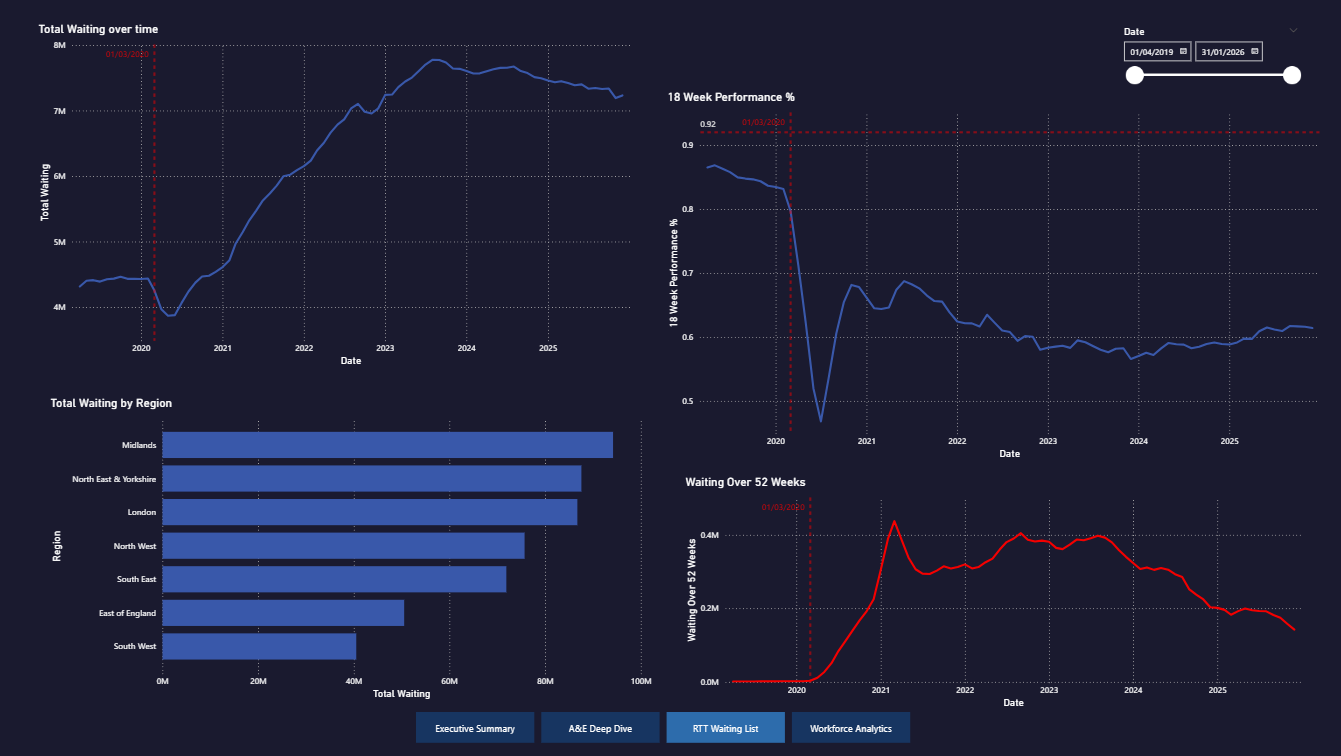

What the dashboard file says about the page in this screenshot:
{"tool":"powerbi","page":{"name":"RTT Waiting List","canvas":[1920,1080],"ordinal":2},"visuals":[{"type":"lineChart","title":"Total Waiting over time","fields":{"Y":["_Measures.Total Waiting"],"Category":["rtt_clean.period"]},"box":[50,31.4,857.1,497.1],"z":0},{"type":"lineChart","title":"18 Week Performance %","fields":{"Y":["_Measures.18 Week Performance %"],"Category":["rtt_clean.period"]},"box":[948.6,128.6,944.3,532.9],"z":1000},{"type":"clusteredBarChart","title":"Total Waiting by Region","fields":{"Category":["rtt_clean.clean_region"],"Y":["Sum(rtt_clean.total_waiting)"]},"box":[66.7,565.3,869.3,438.7],"z":2000},{"type":"lineChart","title":"Waiting Over 52 Weeks","fields":{"Y":["_Measures.Waiting Over 52 Weeks"],"Category":["rtt_clean.period"]},"box":[974.3,678.6,892.9,338.6],"z":3000},{"type":"slicer","fields":{"Values":["dim_date.Date"]},"box":[1592.9,31.4,274.3,162.9],"z":4000},{"type":"pageNavigator","box":[594.3,1017.1,708.6,44.3],"z":5000}]}

Visuals, with their boxes in screenshot pixels (x1, y1, x2, y2), scaled from the page's 1920x1080 canvas onto the 1341x756 screenshot:
"Total Waiting over time" lineChart: box=[35, 22, 634, 370]
"18 Week Performance %" lineChart: box=[663, 90, 1322, 463]
"Total Waiting by Region" clusteredBarChart: box=[47, 396, 654, 703]
"Waiting Over 52 Weeks" lineChart: box=[680, 475, 1304, 712]
slicer - dim_date.Date: box=[1113, 22, 1304, 136]
pageNavigator: box=[415, 712, 910, 743]
